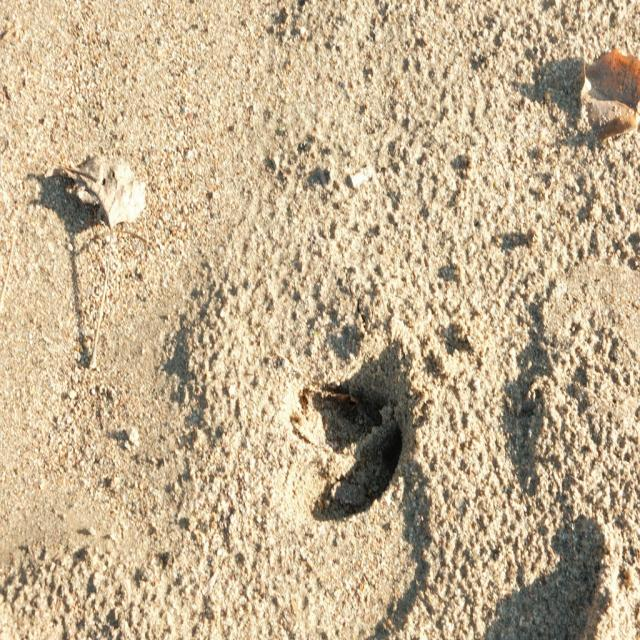deer: (287, 364, 411, 525)
